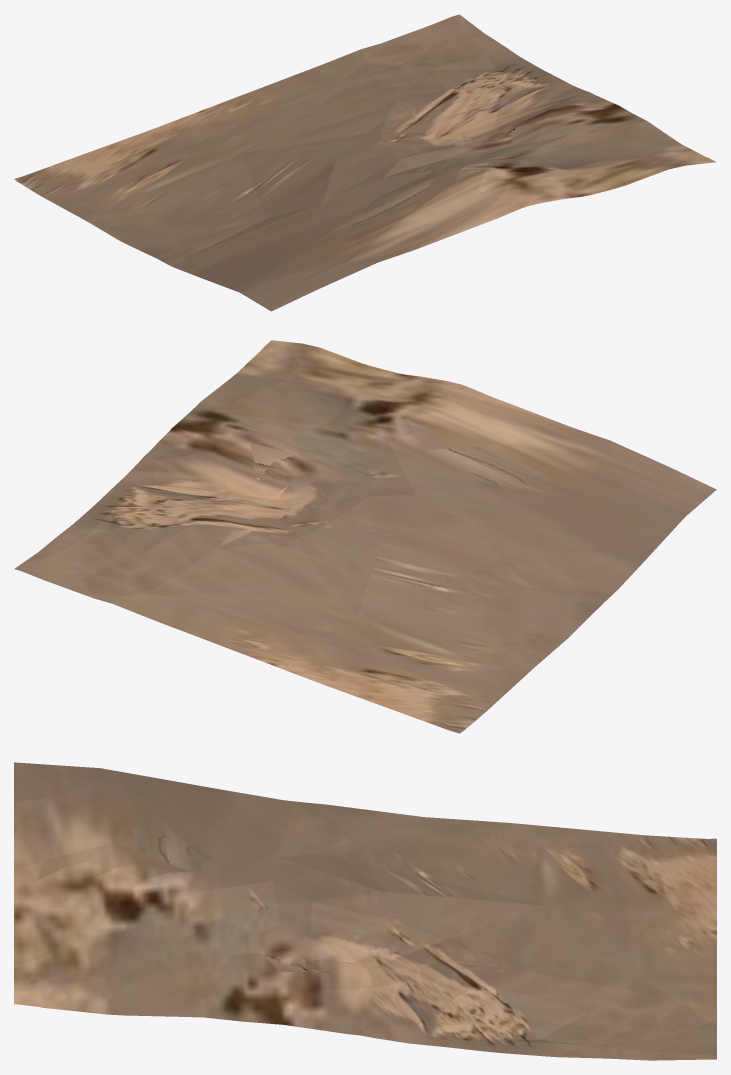
3 renders of one model, top to bottom at view 1: azimuth 30°, elevation 25°; view 2: azimuth 150°, elevation 25°; view 3: azimuth 270°, elevation 25°, orthographic. The views are drawn at different scales.
Size of the model in its own units: 1.04 by 0.2265 by 1.04.
Materials: 3 (3 with a texture image).
